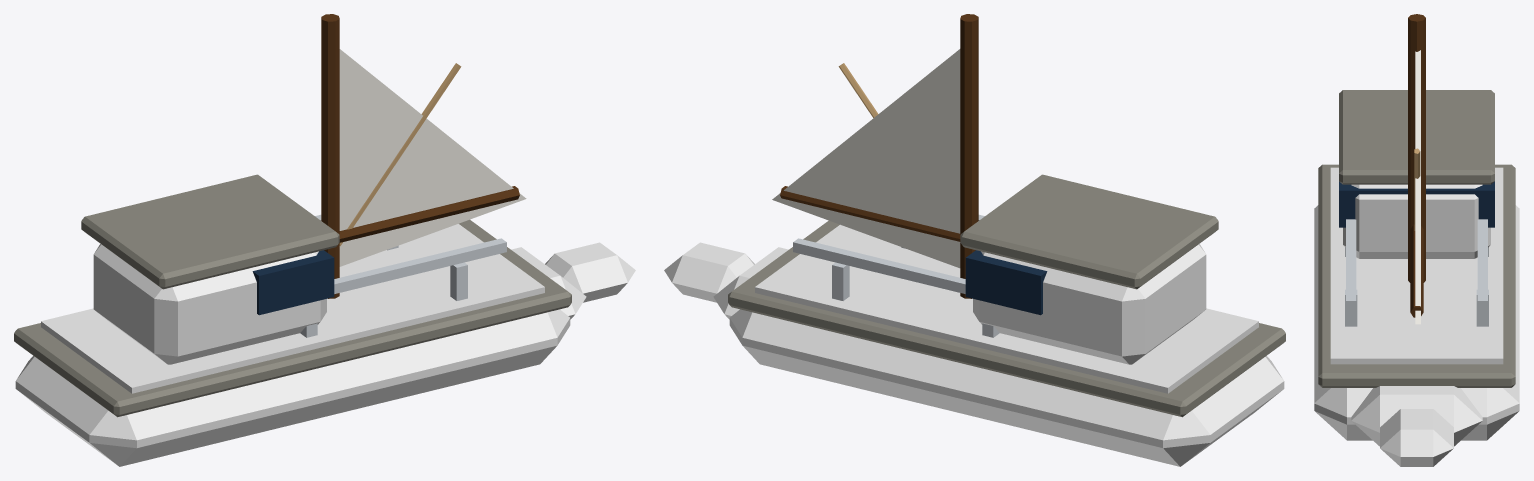
Rendered from boat.glb.
3 renders of one model, left to right at view 1: azimuth 30°, elevation 25°; view 2: azimuth 150°, elevation 25°; view 3: azimuth 270°, elevation 25°, orthographic. The views are drawn at different scales.
Visible parts, largest first — view 1: Hull, Deck, Sail, CabinRoof, BoatCab, Trim, Mast, CabWin, BowTip, Rail2, Boom, Stay (+2 smaller); view 2: Hull, Deck, Sail, CabinRoof, BoatCab, Trim, Mast, CabWin, BowTip, Rail, Boom, Bow (+1 smaller); view 3: Deck, CabinRoof, Trim, BoatCab, Hull, Bow, BowTip, Mast, CabWin, Sail, Rail, Rail2 (+4 smaller).
Boxes of the visible parts, x1=… form: Hull: x1=15, y1=309, x2=570, y2=466; Deck: x1=41, y1=224, x2=544, y2=393; Sail: x1=339, y1=49, x2=526, y2=266; CabinRoof: x1=81, y1=174, x2=339, y2=289; BoatCab: x1=93, y1=244, x2=326, y2=364; Trim: x1=14, y1=219, x2=571, y2=417; Mast: x1=321, y1=14, x2=339, y2=298; CabWin: x1=252, y1=250, x2=334, y2=315; BowTip: x1=545, y1=242, x2=635, y2=302; Rail2: x1=334, y1=238, x2=506, y2=293; Boom: x1=339, y1=186, x2=519, y2=242; Stay: x1=339, y1=63, x2=461, y2=246; Hull: x1=729, y1=309, x2=1284, y2=466; Deck: x1=755, y1=224, x2=1258, y2=393; Sail: x1=772, y1=49, x2=960, y2=268; CabinRoof: x1=960, y1=174, x2=1218, y2=289; BoatCab: x1=973, y1=244, x2=1206, y2=364; Trim: x1=728, y1=220, x2=1285, y2=417; Mast: x1=960, y1=14, x2=978, y2=298; CabWin: x1=965, y1=250, x2=1047, y2=315; BowTip: x1=664, y1=242, x2=754, y2=302; Rail: x1=793, y1=238, x2=965, y2=293; Boom: x1=780, y1=186, x2=960, y2=241; Bow: x1=713, y1=247, x2=788, y2=319; Deck: x1=1330, y1=167, x2=1503, y2=364; CabinRoof: x1=1339, y1=90, x2=1494, y2=184; Trim: x1=1318, y1=164, x2=1515, y2=387; BoatCab: x1=1343, y1=184, x2=1490, y2=258; Hull: x1=1314, y1=205, x2=1519, y2=440; Bow: x1=1351, y1=386, x2=1482, y2=446; BowTip: x1=1380, y1=409, x2=1453, y2=466; Mast: x1=1408, y1=14, x2=1425, y2=282; CabWin: x1=1339, y1=181, x2=1494, y2=227; Sail: x1=1415, y1=50, x2=1420, y2=324; Rail: x1=1477, y1=219, x2=1487, y2=310; Rail2: x1=1346, y1=219, x2=1356, y2=310.
Size of the model in its own units: 1.53 by 0.92 by 0.5.
